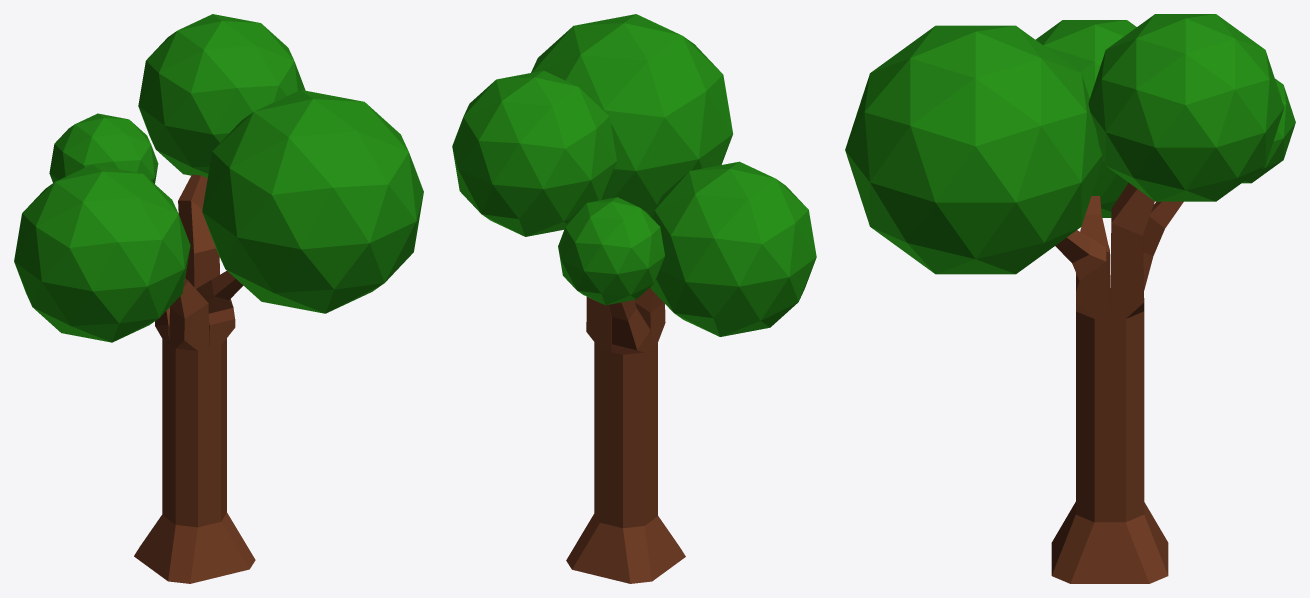
Rendered from tree2.glb.
The picture shows the model from 3 angles, left to right: view 1: azimuth 30°, elevation 25°; view 2: azimuth 150°, elevation 25°; view 3: azimuth 270°, elevation 25°; orthographic projection. The views are drawn at different scales.
Parts seen in each view (by area): view 1: Cube.005, Cube.004; view 2: Cube.005, Cube.004; view 3: Cube.005, Cube.004.
Part boxes in pixels (bbox=[...]): Cube.005: bbox=[14, 14, 423, 342]; Cube.004: bbox=[134, 174, 255, 583]; Cube.005: bbox=[452, 14, 816, 336]; Cube.004: bbox=[566, 287, 685, 583]; Cube.005: bbox=[845, 14, 1295, 274]; Cube.004: bbox=[1051, 183, 1183, 583].
Bounding box in the file's own units: 7.46 × 10.88 × 7.73.
